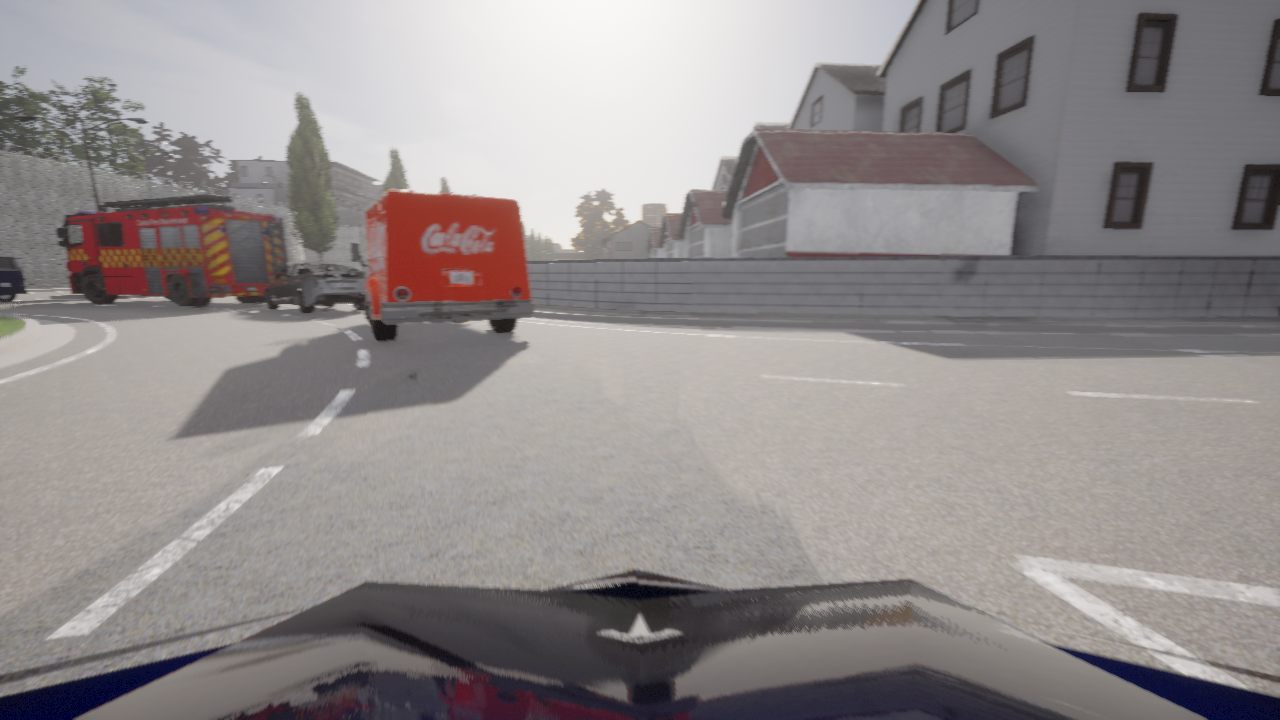cyclist: (0, 569, 1279, 719), (349, 189, 533, 341), (56, 194, 287, 306), (263, 262, 365, 313)
